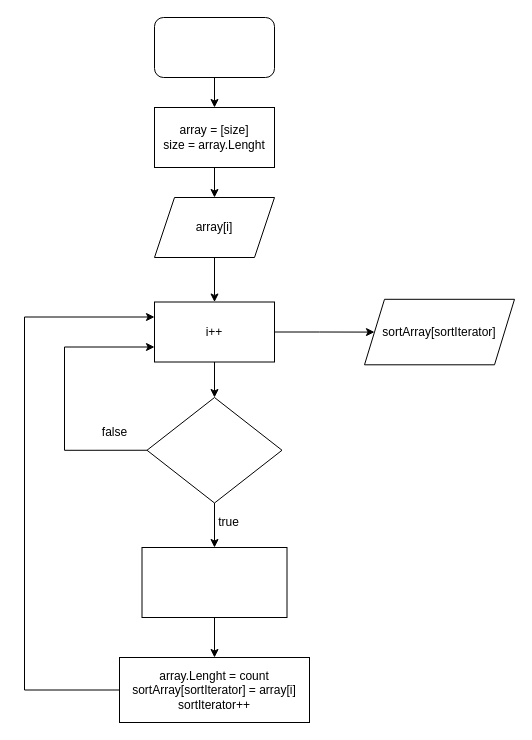
The diagram is 532 pixels wide and 740 high, and some of its shapes have lost their labels. Each missing label, with the centre of its shape:
"array[i] <= 3" belongs at pixel 214 449.
"count++" belongs at pixel 214 582.
"Start" belongs at pixel 214 47.
